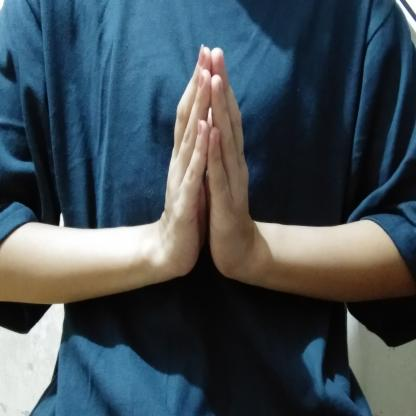sorry: (144, 37, 277, 292)
